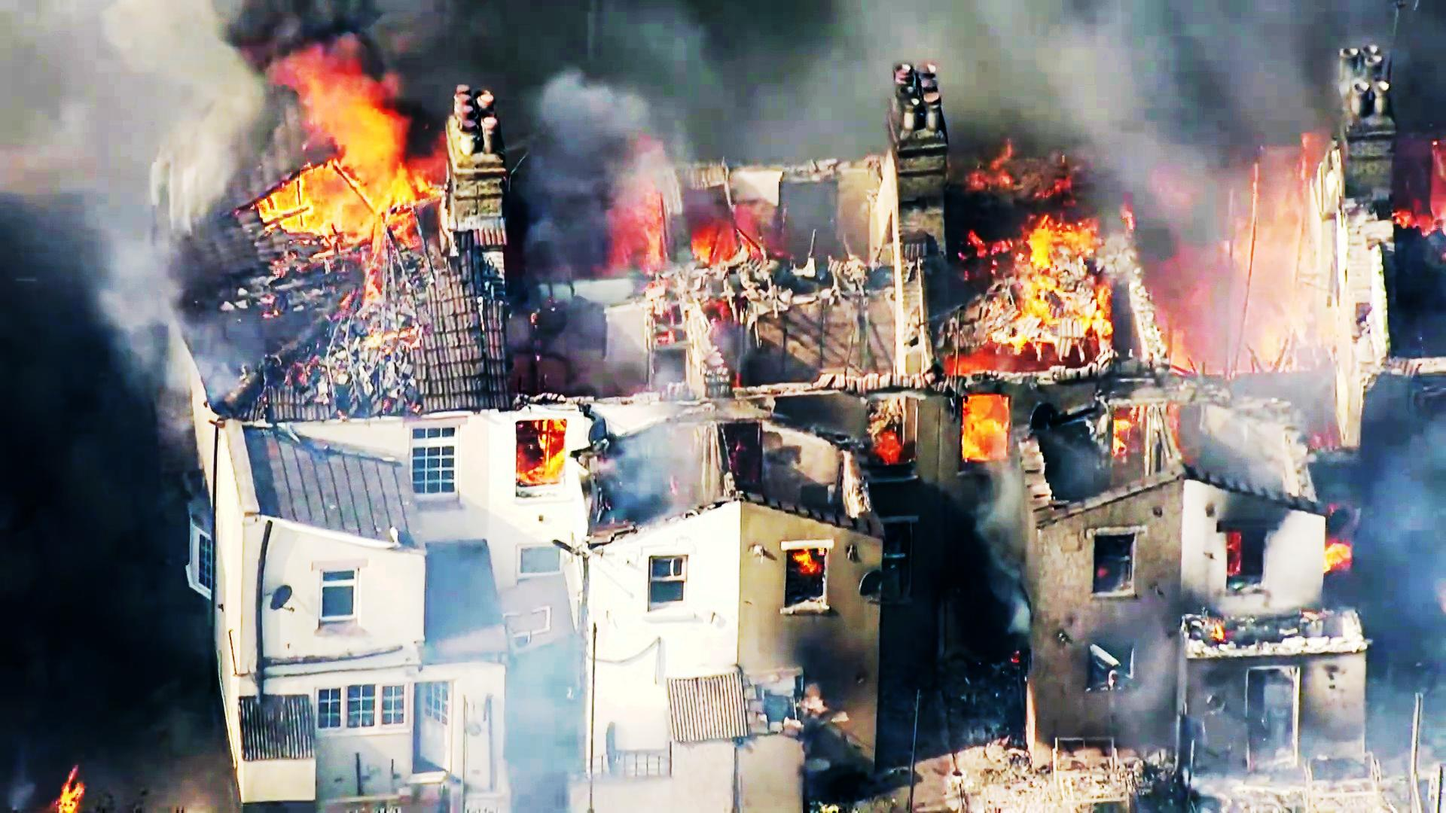fire: (249, 55, 450, 243), (939, 166, 1126, 366), (1198, 158, 1338, 371), (947, 392, 1002, 463)
smoke: (0, 0, 230, 638), (567, 0, 790, 162)
